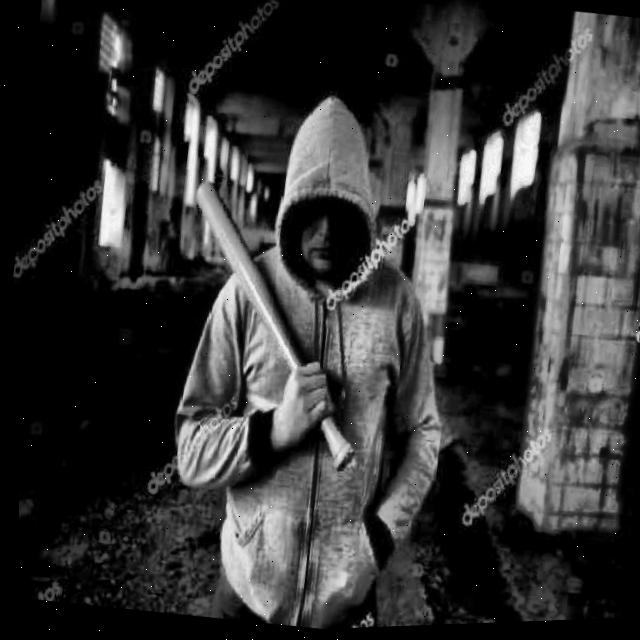robbery: (156, 80, 451, 629)
tongkat pemukul: (187, 170, 365, 479)
